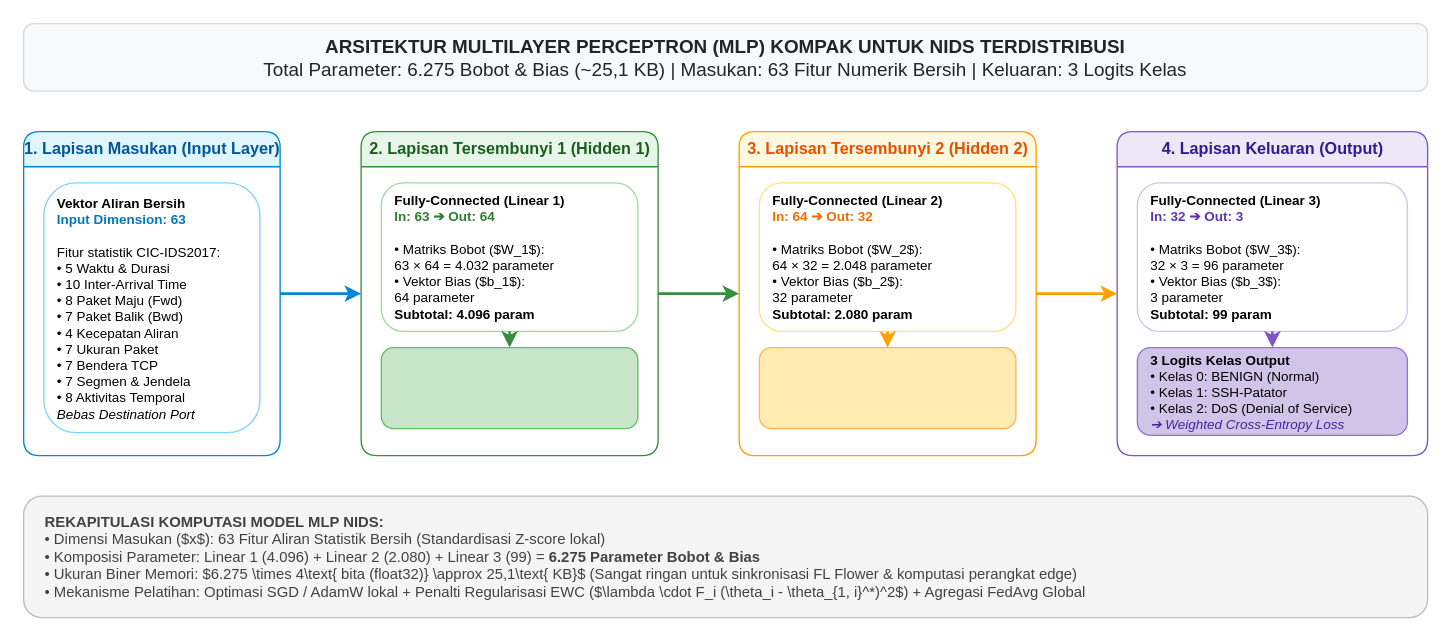
Image size: 1451x641. Some labels were removed from this diagram. Each missing label, with the centre of its shape:
"Aktivasi ReLU 1 $f(z) = \max(0, z)$ Dimensi: 64 fitur laten" goes at (x=509, y=387).
"Aktivasi ReLU 2 $f(z) = \max(0, z)$ Dimensi: 32 fitur laten" goes at (x=887, y=387).
